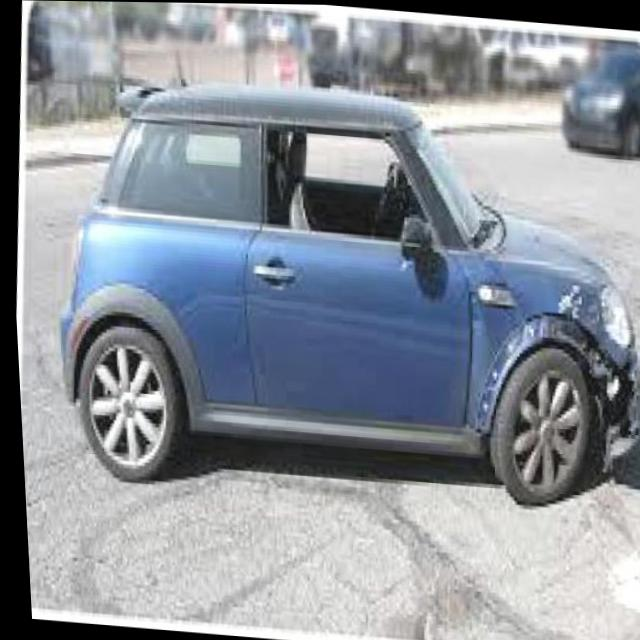Car-Damage: (461, 274, 640, 461)
